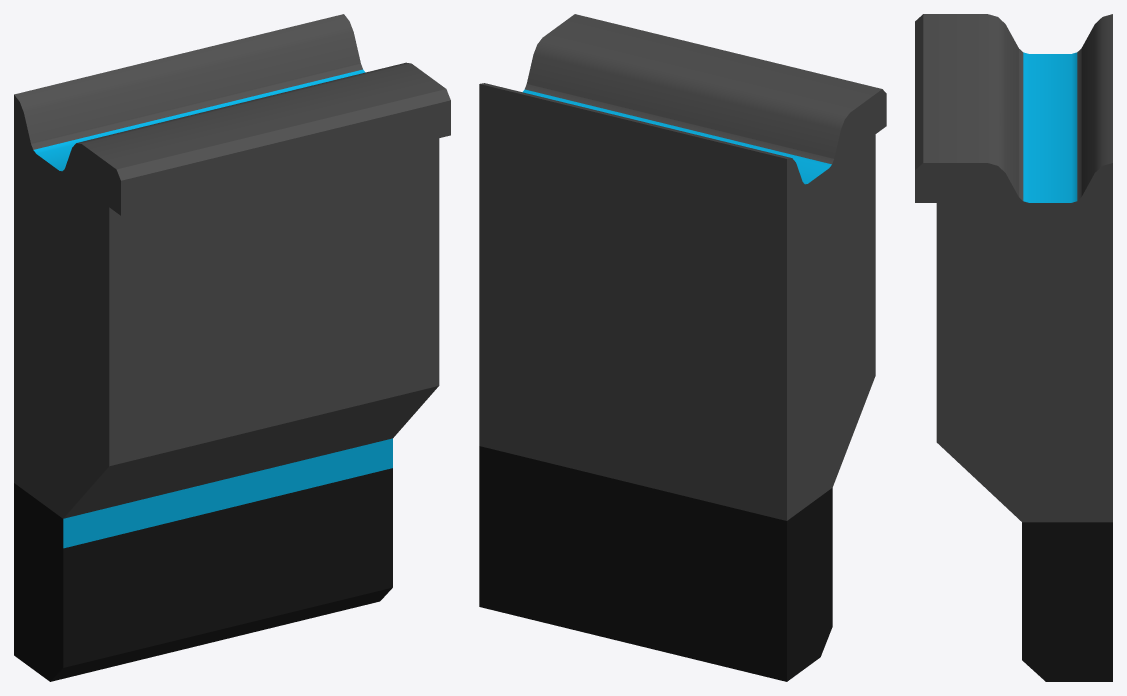
Rendered from Floor_Edge_01.fbx.
The picture shows the model from 3 angles, left to right: view 1: azimuth 30°, elevation 25°; view 2: azimuth 150°, elevation 25°; view 3: azimuth 270°, elevation 25°; orthographic projection. The views are drawn at different scales.
Parts seen in each view (by area): view 1: Floor_Edge_01; view 2: Floor_Edge_01; view 3: Floor_Edge_01.
Boxes of the visible parts, <box> form: Floor_Edge_01: <box>14,14,450,681</box>; Floor_Edge_01: <box>479,14,886,681</box>; Floor_Edge_01: <box>915,14,1112,681</box>.
Bounding box in the file's own units: 400 × 650 × 225.
